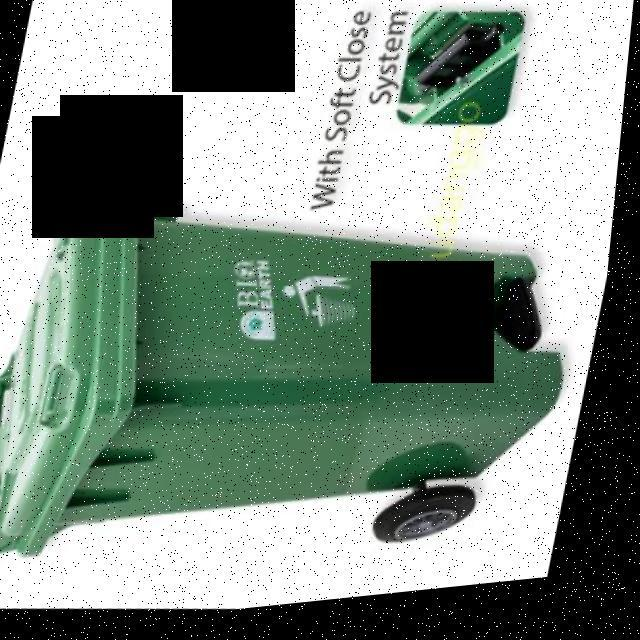bin: (0, 103, 624, 640)
